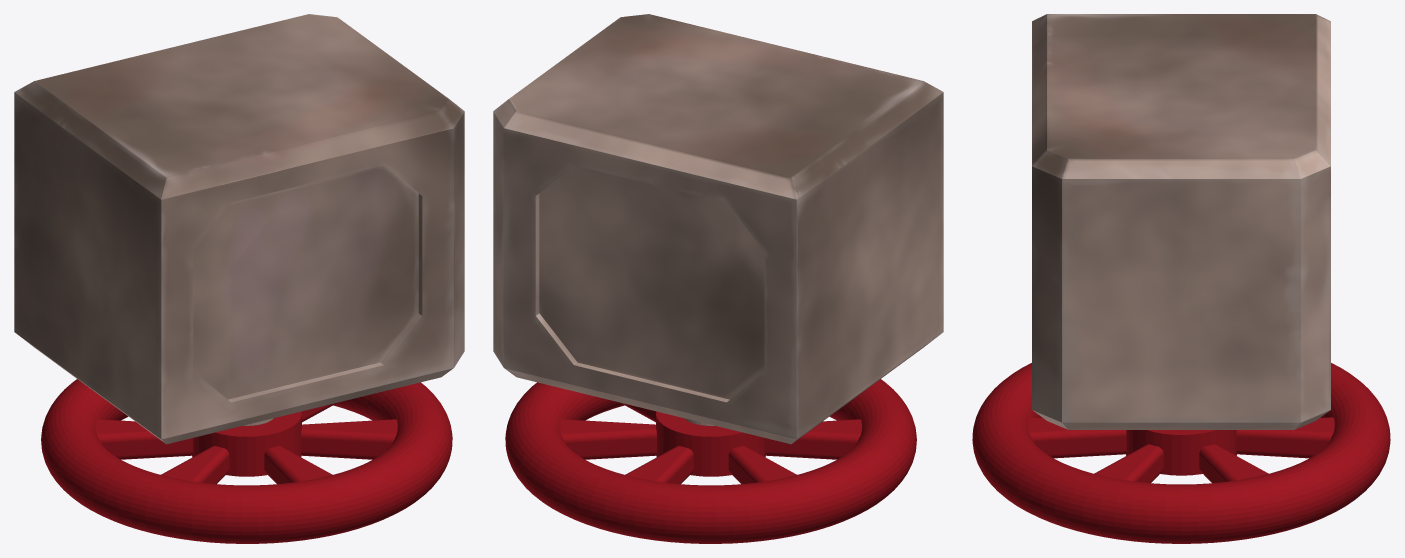
Rendered from Turning wheel.glb.
3 renders of one model, left to right at view 1: azimuth 30°, elevation 25°; view 2: azimuth 150°, elevation 25°; view 3: azimuth 270°, elevation 25°, orthographic.
Parts seen in each view (by area): view 1: Wheel pipe; view 2: Wheel pipe; view 3: Wheel pipe.
Part boxes in pixels (<box>): Wheel pipe: <box>14,14,464,543</box>; Wheel pipe: <box>493,14,943,543</box>; Wheel pipe: <box>972,14,1390,543</box>.
Bounding box in the file's own units: 6.37 × 6.37 × 6.37.
2 materials, 1 textured.
